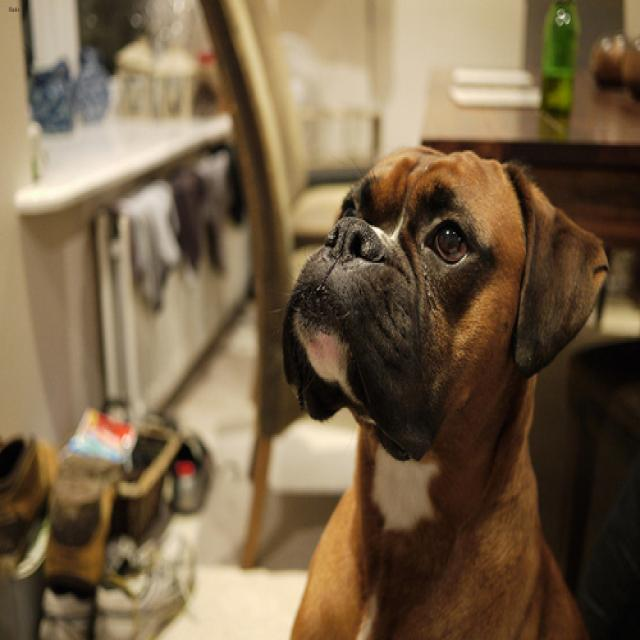dog-boxer: (270, 130, 618, 637)
